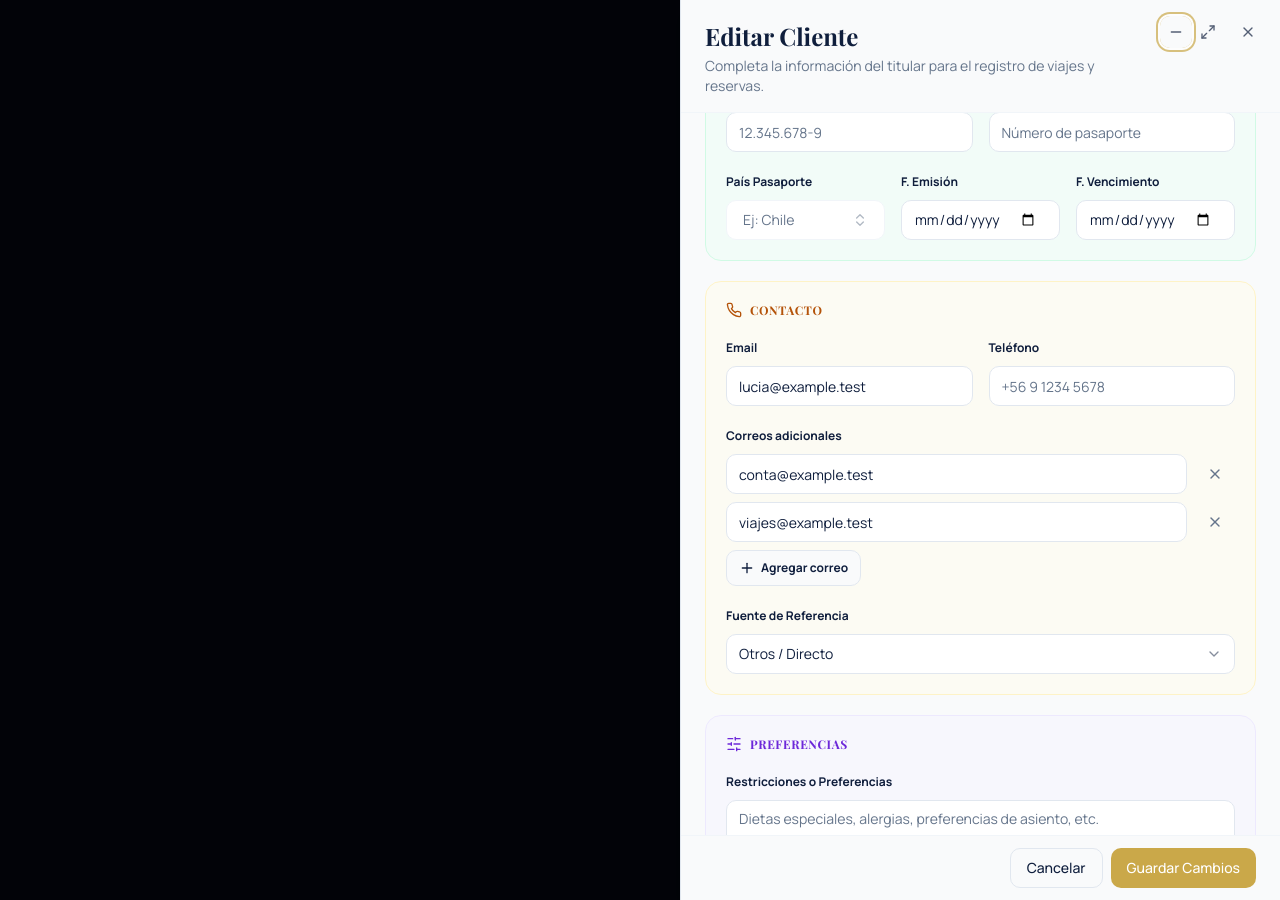
Test: ClientFormDialog: correos adicionales › un correo adicional mal escrito frena el guardado y se señala en su fila
(page scrolled)
Replace the text in the field named "Correo adicional 1" with "no-es-correo". click: (956, 474)
box: [726,454,1187,494]
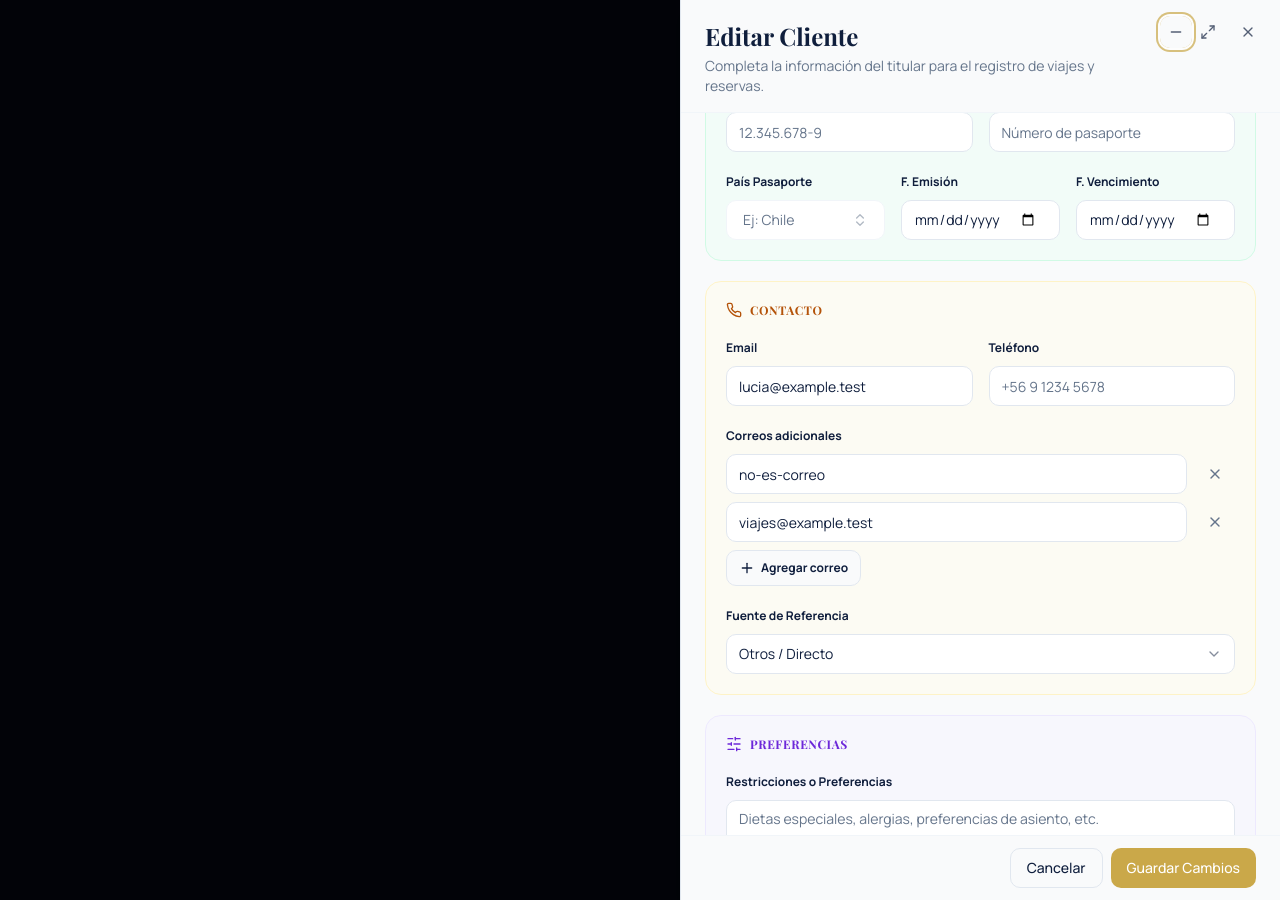
Click the button "Guardar Cambios". click: (1183, 868)
box: [1110,848,1256,888]
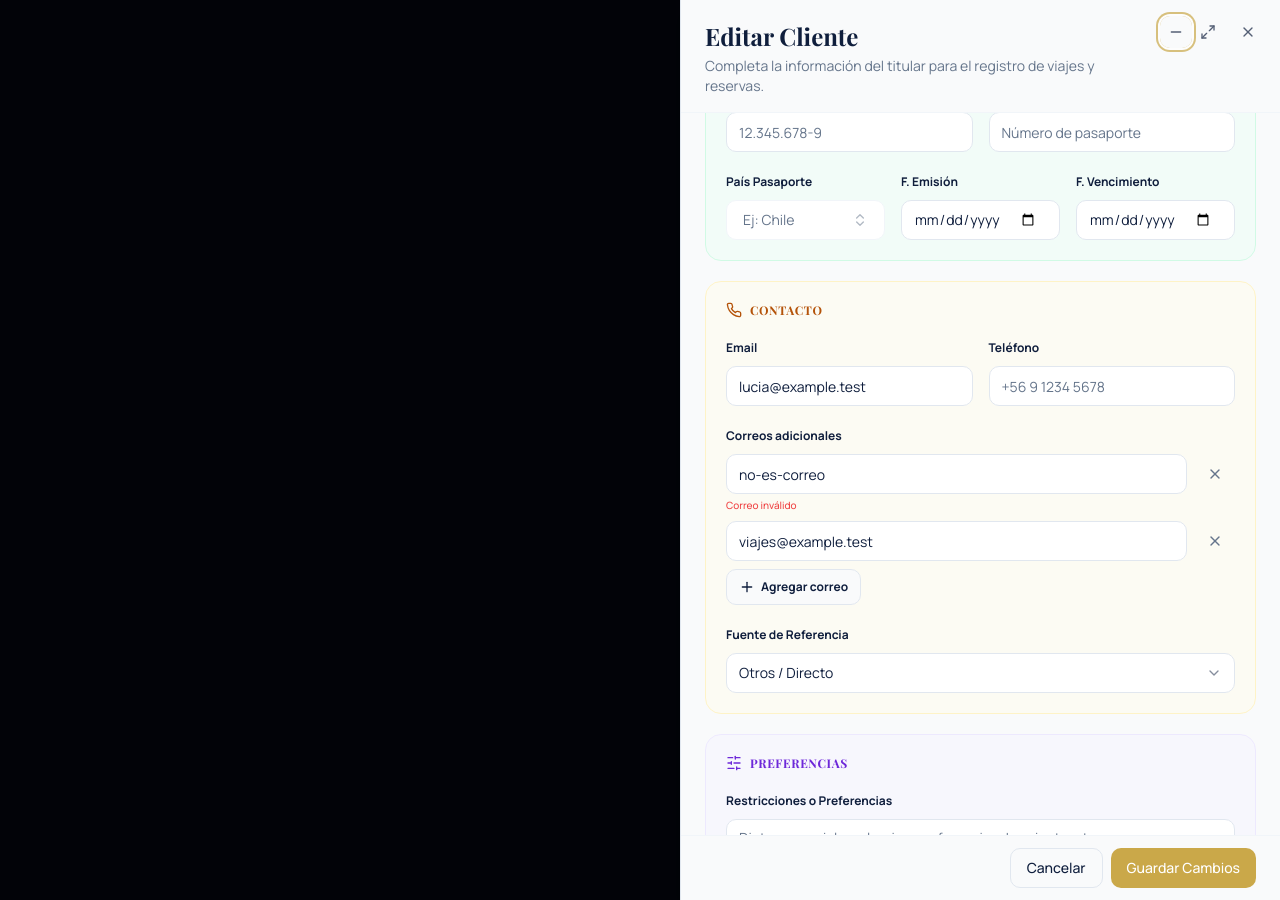
Expected: the text "Correo inválido" is shown, [726,498,797,512]
